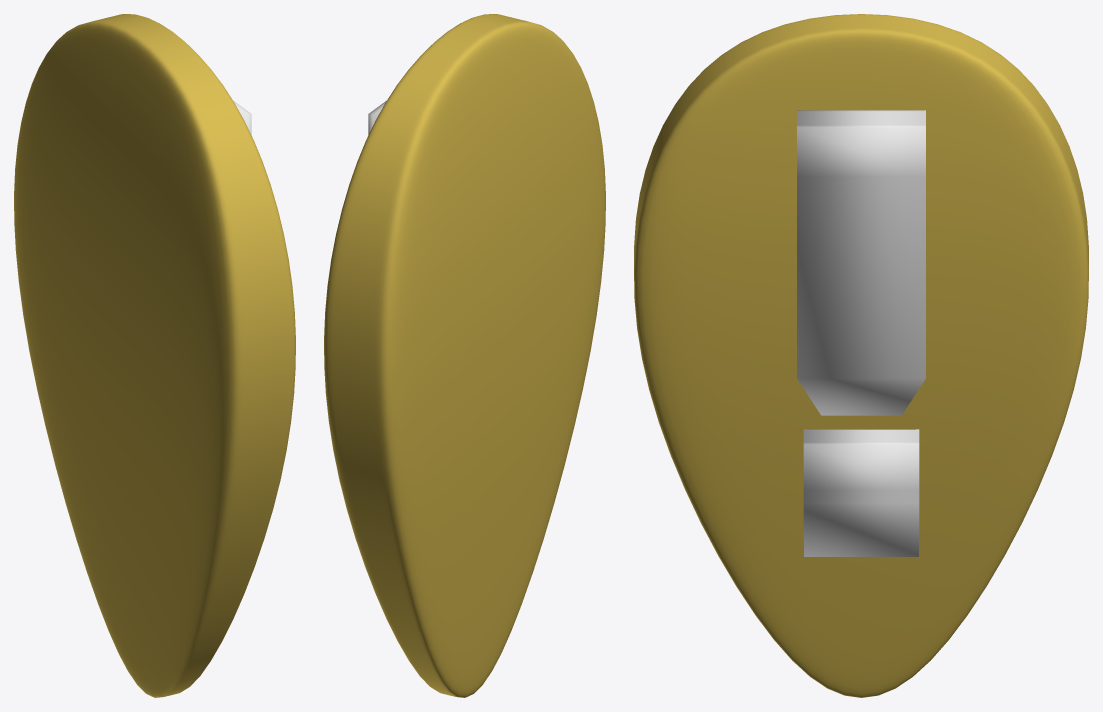
File: button.glb
The picture shows the model from 3 angles, left to right: view 1: azimuth 30°, elevation 25°; view 2: azimuth 150°, elevation 25°; view 3: azimuth 270°, elevation 25°; orthographic projection. The views are drawn at different scales.
Visible parts, largest first — view 1: Cube.002; view 2: Cube.002; view 3: Cube.002, Cube, Cube.001.
Boxes of the visible parts, x1,y1,x2,y2 form: Cube.002: (14, 14, 295, 697); Cube.002: (324, 14, 605, 697); Cube.002: (634, 14, 1088, 697); Cube: (797, 110, 925, 415); Cube.001: (803, 429, 919, 556).
Bounding box in the file's own units: 0.4433 × 2.67 × 1.64.
